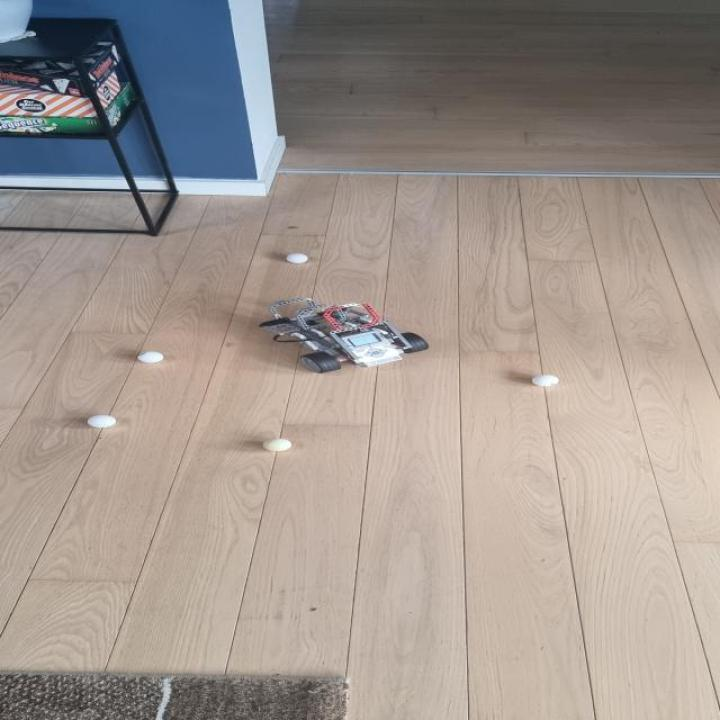robot: (257, 297, 429, 374)
white: (264, 438, 292, 452), (86, 415, 116, 428), (532, 374, 560, 386), (137, 351, 164, 363), (287, 253, 308, 263)
